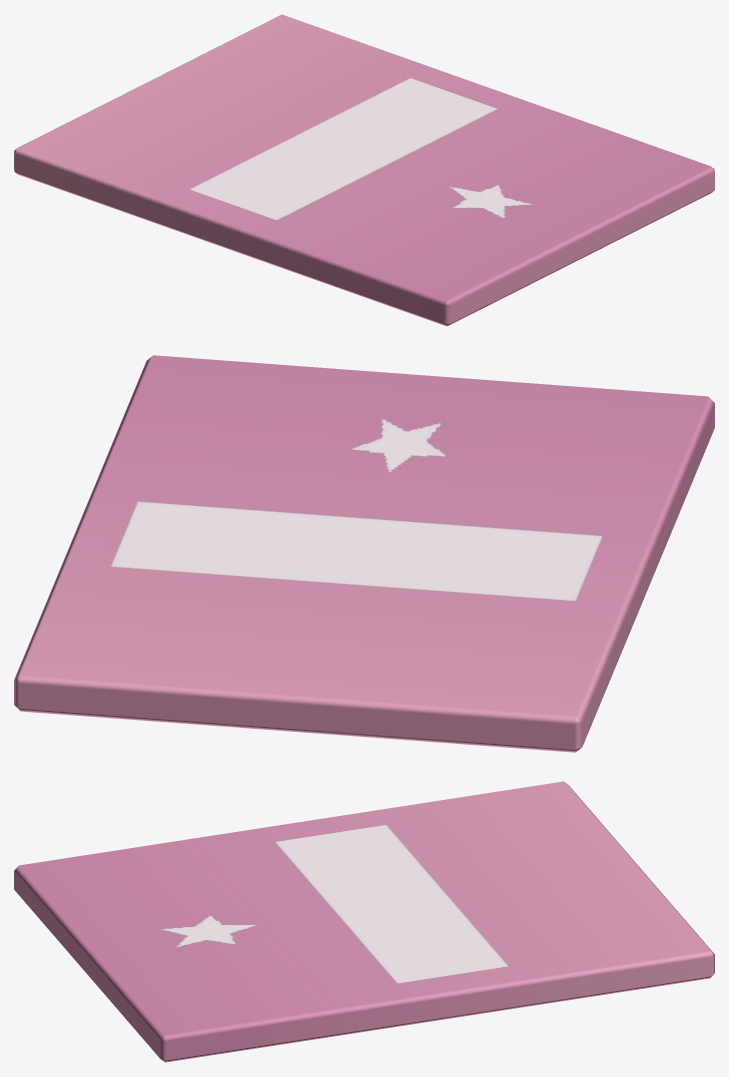
Rendered from notebook.fbx.
The picture shows the model from 3 angles, top to bottom: view 1: azimuth 30°, elevation 25°; view 2: azimuth 150°, elevation 25°; view 3: azimuth 270°, elevation 25°; orthographic projection. The views are drawn at different scales.
Visible parts, largest first — view 1: notebook; view 2: notebook; view 3: notebook.
Boxes of the visible parts, x1,y1,x2,y2 form: notebook: [14, 14, 714, 326]; notebook: [14, 355, 714, 752]; notebook: [14, 781, 714, 1062].
Size of the model in its own units: 0.2372 by 0.012 by 0.273.
